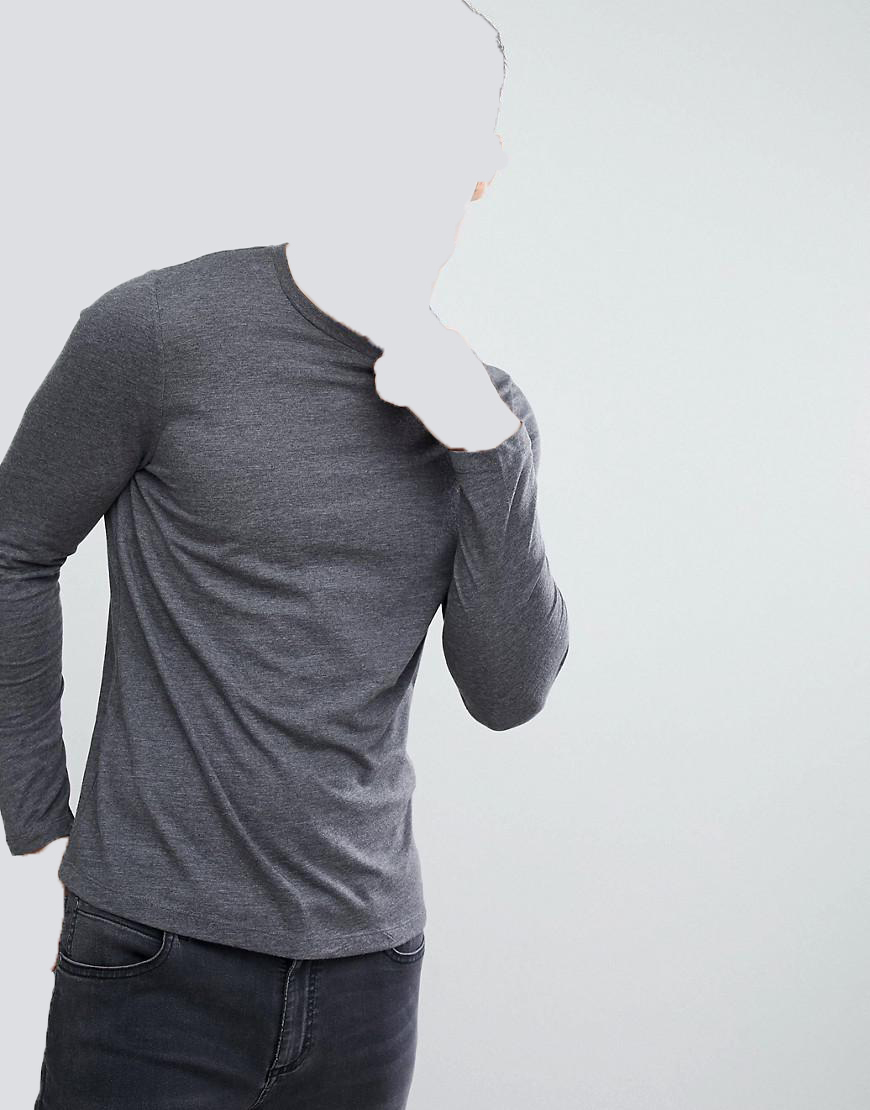teeshirt: (1, 240, 583, 988)
